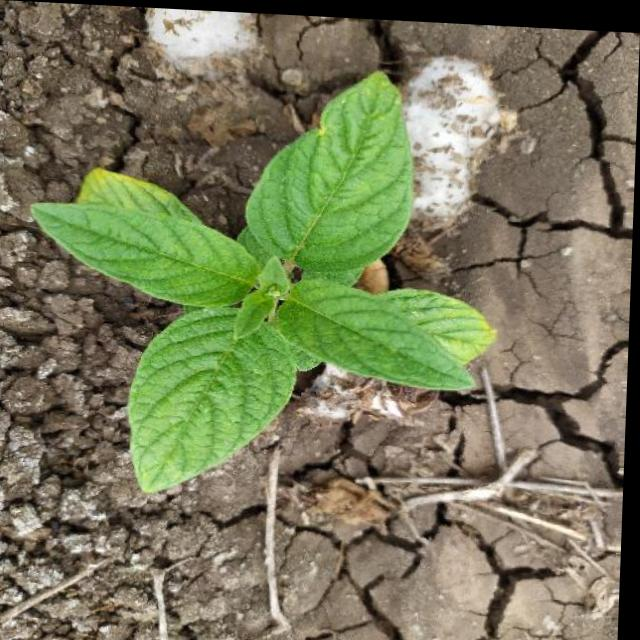crop: (26, 53, 499, 498)
